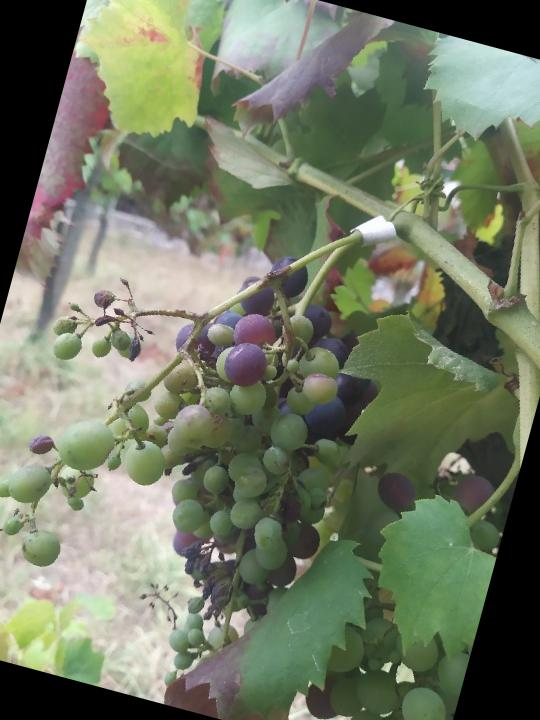grape: (0, 188, 403, 720)
